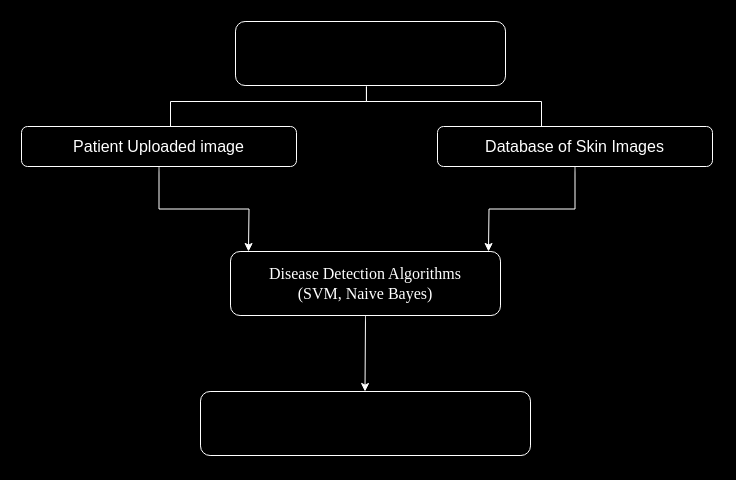
Image size: 736x480. Some labels were removed from this diagram. Here are the shapes that lost their labels. From the top down, the centre of each, then its label:
At (371,54): "Skin Disease Detection System".
At (366,424): "Clinic Recommendation Based on Patient's Disease".
